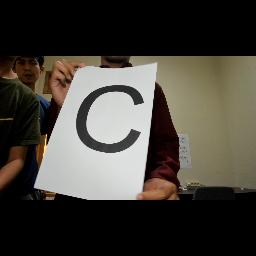c: (76, 78, 144, 172)
